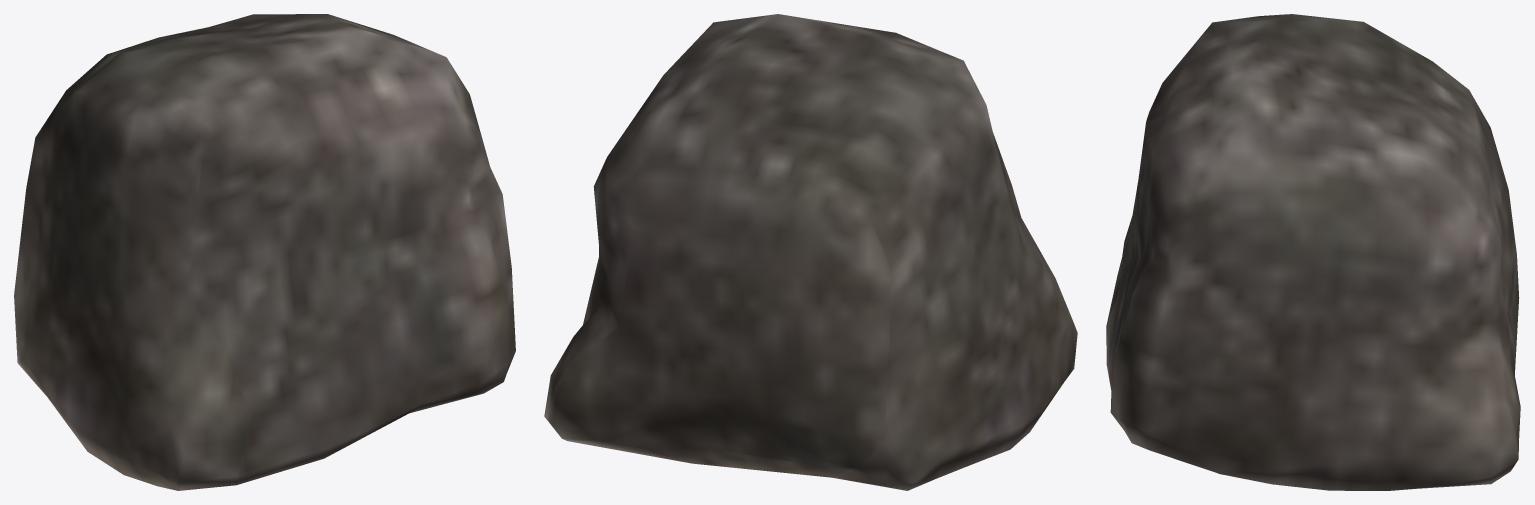
File: Ruins_Stone_C-transformed.glb
3 renders of one model, left to right at view 1: azimuth 30°, elevation 25°; view 2: azimuth 150°, elevation 25°; view 3: azimuth 270°, elevation 25°, orthographic. The views are drawn at different scales.
Visible parts, largest first — view 1: default; view 2: default; view 3: default.
Part boxes in pixels (x1,y1,x2,y2): default: [14, 14, 515, 490]; default: [544, 14, 1077, 490]; default: [1106, 14, 1520, 490].
Size of the model in its own units: 1 by 0.9408 by 0.9613.
Materials: 1 (1 with a texture image).
